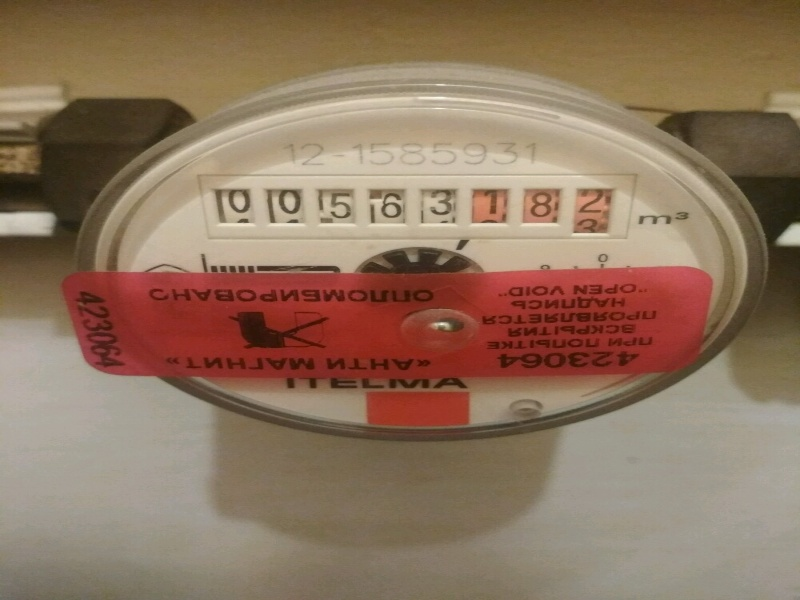meter: (175, 169, 643, 243)
